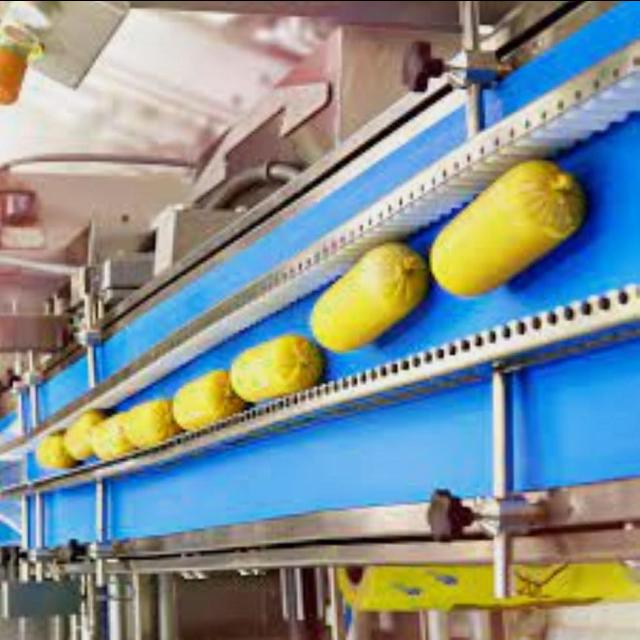food: (428, 156, 590, 298), (308, 240, 430, 354), (224, 328, 330, 410)
